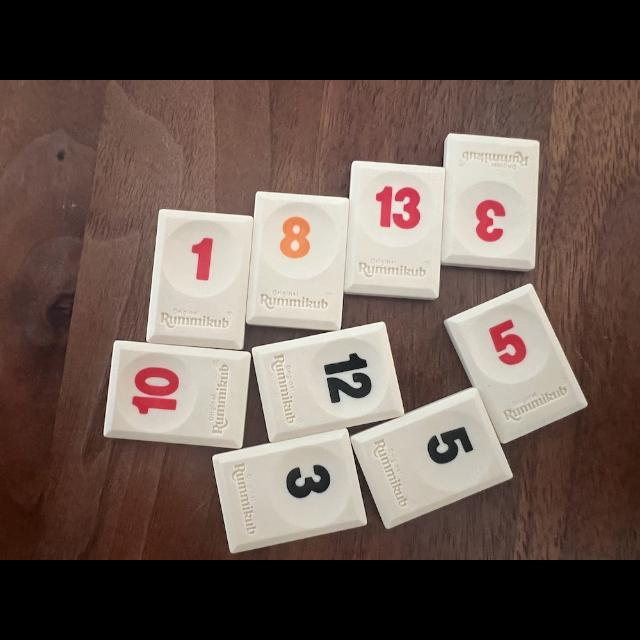black_12: (252, 322, 404, 442)
black_3: (212, 429, 366, 552)
black_5: (351, 388, 512, 529)
orange_8: (246, 191, 349, 330)
red_1: (146, 210, 254, 349)
red_10: (104, 341, 250, 449)
red_13: (345, 161, 445, 299)
red_3: (441, 134, 539, 271)
red_5: (445, 284, 586, 442)
